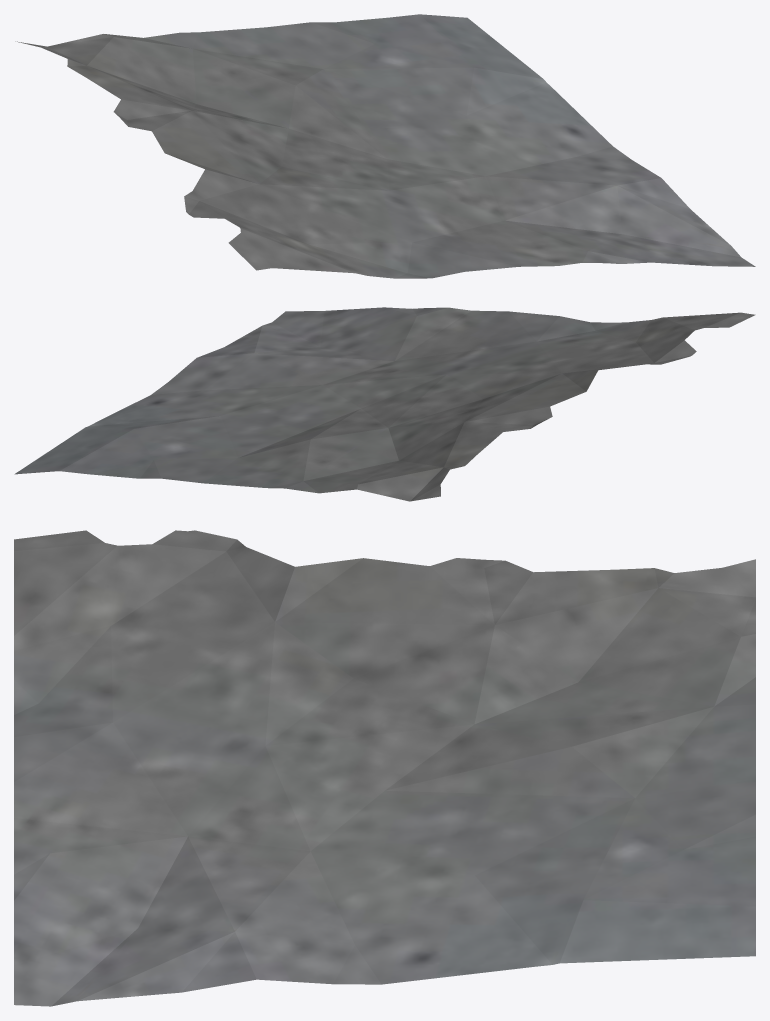
The picture shows the model from 3 angles, top to bottom: view 1: azimuth 30°, elevation 25°; view 2: azimuth 150°, elevation 25°; view 3: azimuth 270°, elevation 25°; orthographic projection. The views are drawn at different scales.
Bounding box in the file's own units: 0.8374 × 0.2024 × 0.8374.
Materials: 2 (2 with a texture image).
